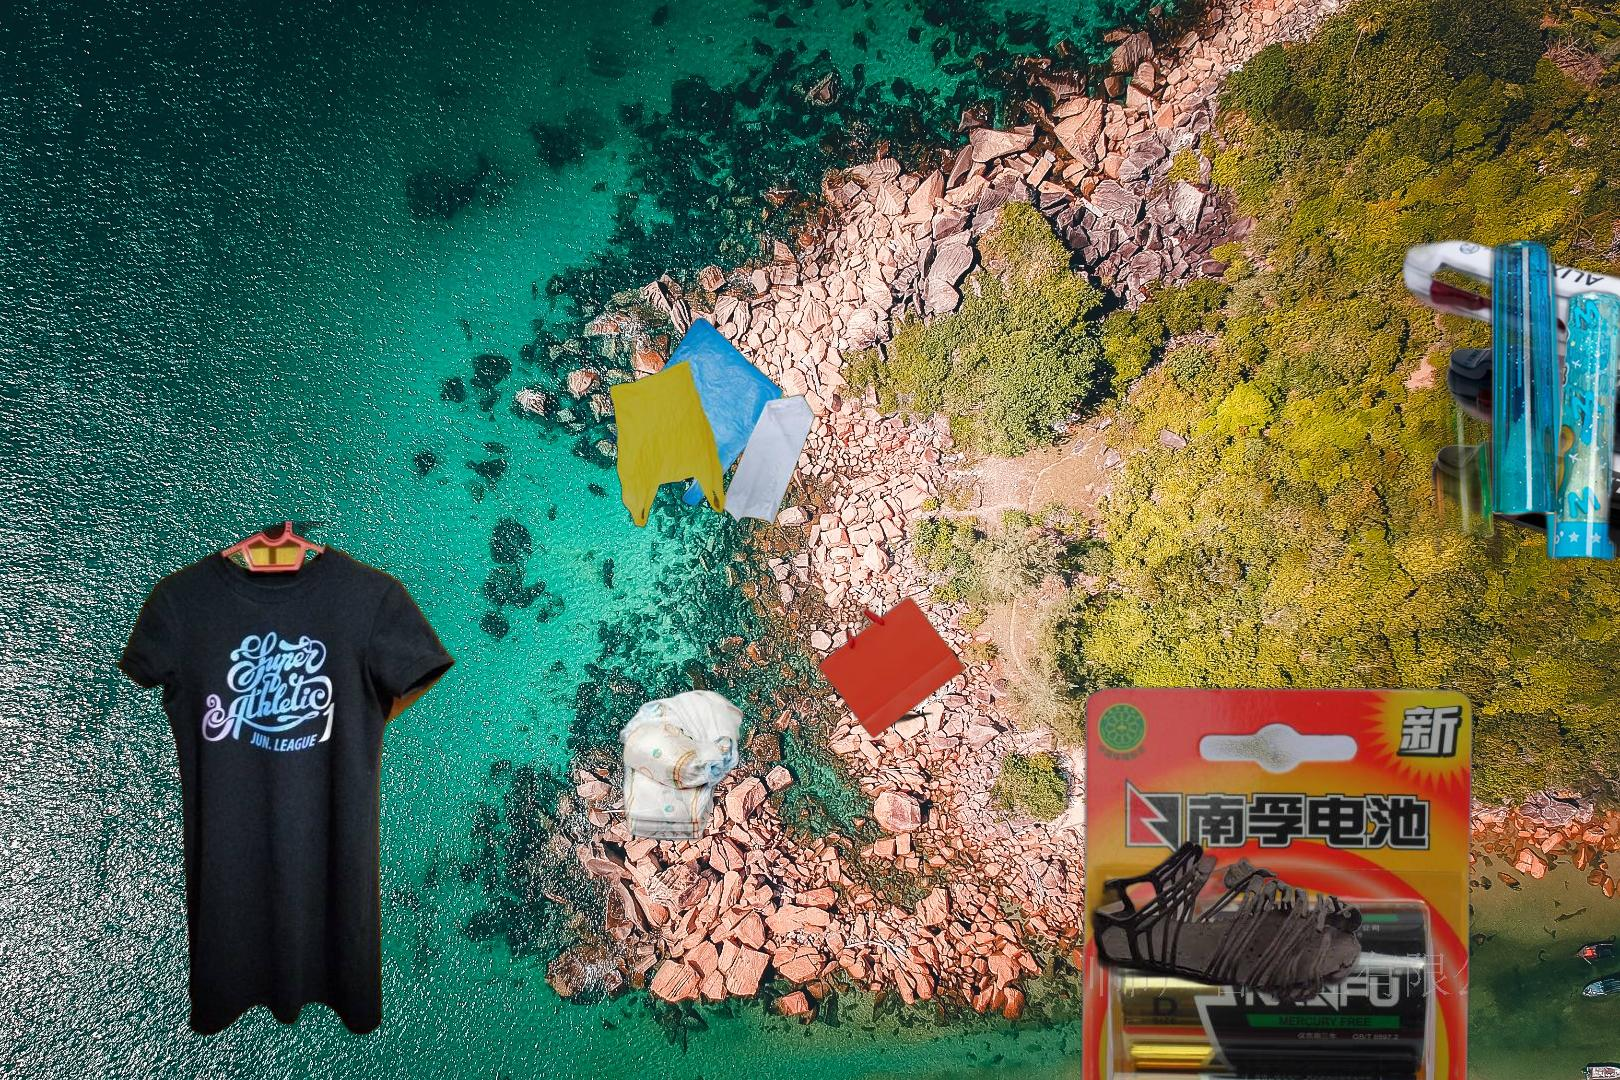battery: (1074, 681, 1483, 1080)
clothes: (115, 521, 459, 1053)
paper-bag: (815, 582, 967, 741)
penholder: (1366, 216, 1620, 749), (1393, 234, 1620, 677)
plastic-bag: (603, 316, 818, 532)
shoes: (1072, 841, 1370, 1002)
trash: (616, 687, 750, 843)
